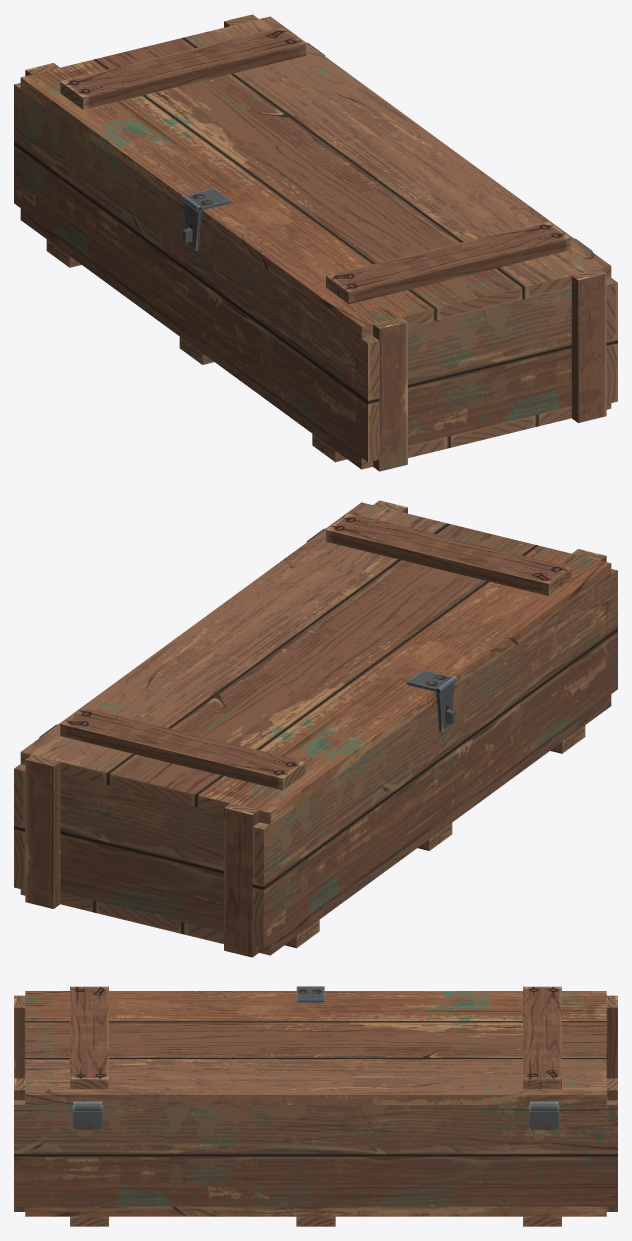
File: crate03.FBX
3 renders of one model, top to bottom at view 1: azimuth 30°, elevation 25°; view 2: azimuth 150°, elevation 25°; view 3: azimuth 270°, elevation 25°, orthographic. The views are drawn at different scales.
Parts seen in each view (by area): view 1: crate03_lid, crate03; view 2: crate03_lid, crate03; view 3: crate03, crate03_lid.
Boxes of the visible parts, x1,y1,x2,y2 form: crate03_lid: [20, 16, 611, 338]; crate03: [14, 14, 617, 471]; crate03_lid: [20, 502, 611, 824]; crate03: [14, 500, 617, 957]; crate03: [14, 995, 617, 1226]; crate03_lid: [25, 986, 606, 1111].
Bounding box in the file's own units: 47.47 × 28 × 108.
